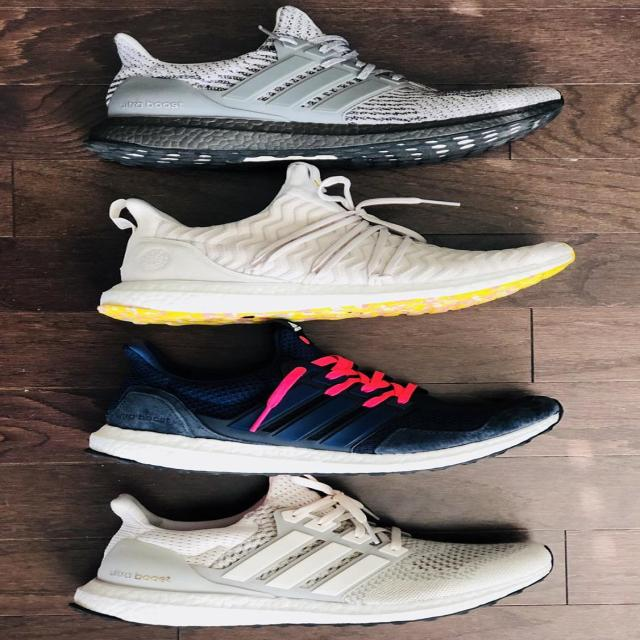shoe: (25, 157, 632, 335), (57, 301, 625, 488), (22, 468, 616, 640), (60, 0, 590, 176)
